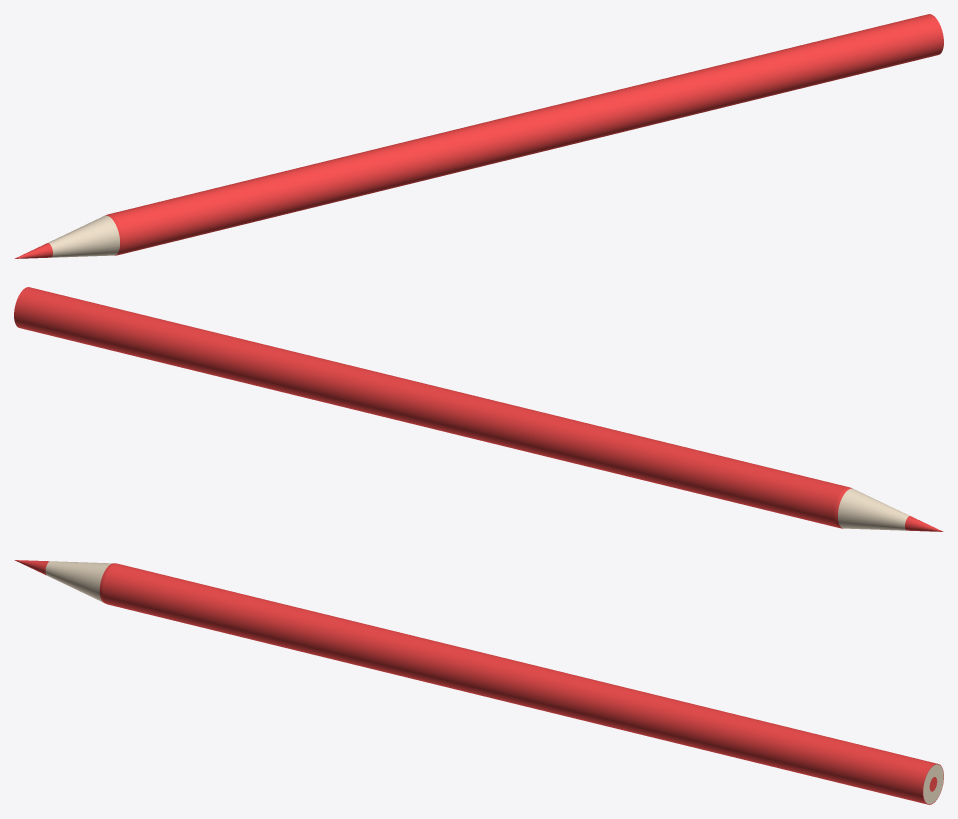
Rendered from 178_色鉛筆.glb.
The picture shows the model from 3 angles, top to bottom: view 1: azimuth 30°, elevation 25°; view 2: azimuth 150°, elevation 25°; view 3: azimuth 330°, elevation 25°; orthographic projection.
Parts seen in each view (by area): view 1: body; view 2: body; view 3: body.
Boxes of the visible parts, <box> form: body: <box>14,14,943,258</box>; body: <box>14,287,943,531</box>; body: <box>14,560,943,804</box>.
Size of the model in its own units: 0.176 by 0.007 by 0.007.
